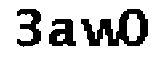0: (115, 7, 150, 48)
3: (12, 8, 44, 49)
a: (47, 17, 80, 50)
w: (77, 15, 121, 48)
